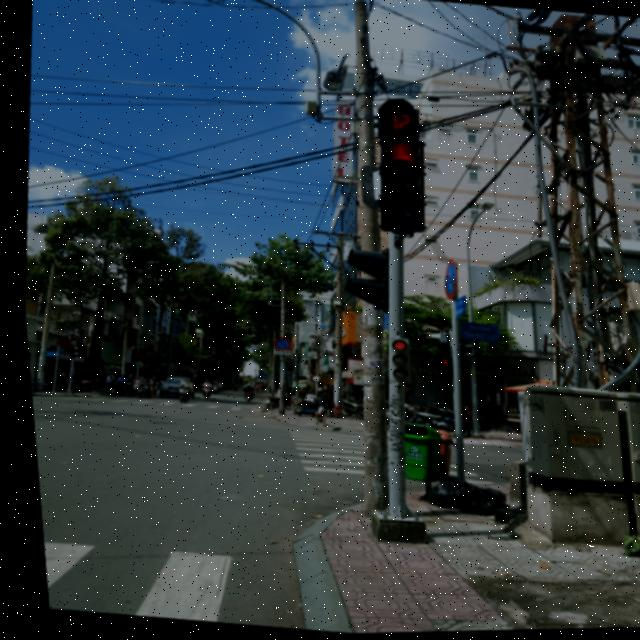Red: (360, 134, 435, 241), (374, 334, 411, 384)
